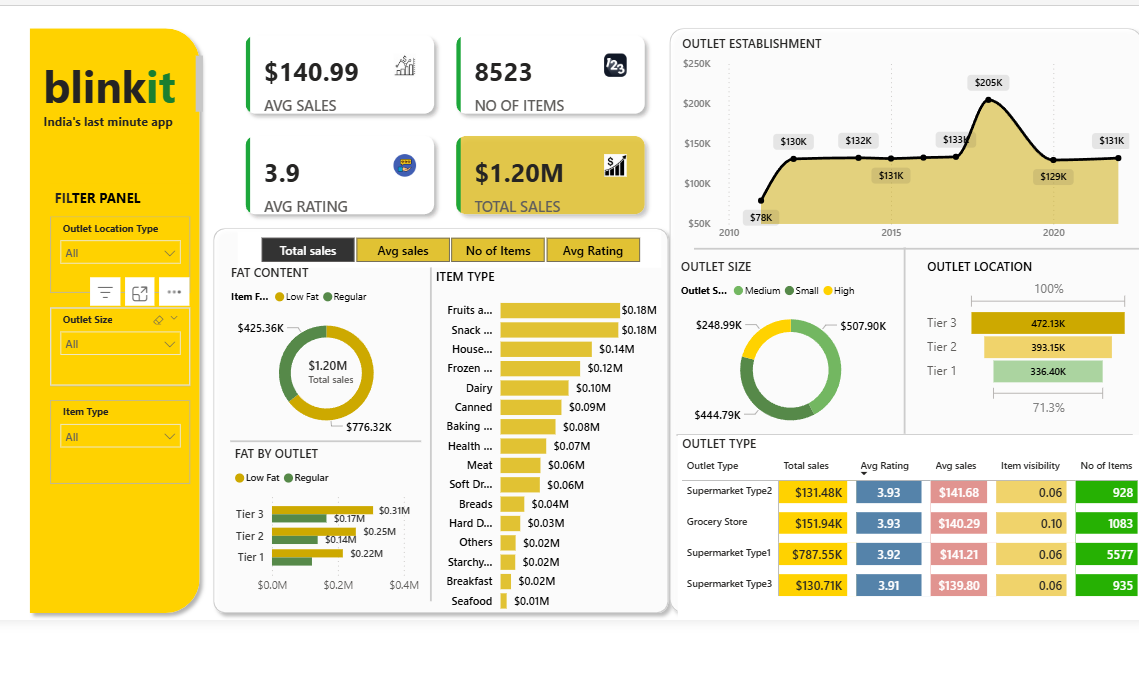

Layout of this report page (visuals, bound fields, positions):
{"tool":"powerbi","page":{"name":"Page 1","canvas":[1280,720],"ordinal":0},"visuals":[{"type":"shape","box":[41.2,60.4,204.5,660],"z":0},{"type":"textbox","box":[60.4,94.7,185.2,72.7],"z":1000},{"type":"textbox","box":[60.4,157.8,156.4,31.6],"z":2000},{"type":"cardVisual","fields":{"Data":["BlinkIT.Avg sales","BlinkIT.No of Items","BlinkIT.Avg Rating","BlinkIT.Total sales"]},"box":[270.3,60.4,473.4,231.9],"z":3000},{"type":"shape","box":[242.9,279.9,517.3,440.5],"z":4000},{"type":"slicer","fields":{"Values":["Metrics.Metrics"]},"box":[278.6,292.3,465.2,39.8],"z":5000},{"type":"donutChart","title":"FAT CONTENT","fields":{"Y":["BlinkIT.Total sales"],"Category":["BlinkIT.Item Fat Content"]},"box":[266.2,328,219.6,194.9],"z":6000},{"type":"cardVisual","fields":{"Data":["BlinkIT.Total sales"]},"box":[338.9,404.8,111.1,82.3],"z":7000},{"type":"clusteredBarChart","title":"FAT BY OUTLET","fields":{"Y":["BlinkIT.Total sales"],"Category":["BlinkIT.Outlet Location Type"],"Series":["BlinkIT.Item Fat Content"]},"box":[270.3,526.9,219.6,171.5],"z":7001},{"type":"shape","box":[270.3,487.1,209.9,71.4],"z":7002},{"type":"shape","box":[385.6,332.1,209.9,366.4],"z":7003},{"type":"barChart","title":"ITEM TYPE","fields":{"Y":["BlinkIT.Total sales"],"Category":["BlinkIT.Item Type"]},"box":[491.3,332.1,252.5,388.3],"z":7004},{"type":"shape","box":[743.7,60.4,536.5,660],"z":7005},{"type":"lineChart","title":"OUTLET ESTABLISHMENT","fields":{"Category":["BlinkIT.Outlet Establishment Year"],"Y":["BlinkIT.Total sales"]},"box":[761.6,76.8,500.9,234.6],"z":7006},{"type":"shape","box":[779.4,275.8,500.9,71.4],"z":7007},{"type":"donutChart","title":"OUTLET SIZE","fields":{"Y":["BlinkIT.Total sales"],"Category":["BlinkIT.Outlet Size"]},"box":[760.2,321.1,251.1,201.7],"z":7008},{"type":"shape","box":[905.7,310.1,209.9,204.5],"z":7009},{"type":"funnel","title":"OUTLET LOCATION ","fields":{"Category":["BlinkIT.Outlet Location Type"],"Y":["Sum(BlinkIT.Sales)"]},"box":[1030.5,321.1,231.9,179.8],"z":7010},{"type":"shape","box":[760.2,480.3,500.9,71.4],"z":7011},{"type":"pivotTable","title":"OUTLET TYPE","fields":{"Rows":["BlinkIT.Outlet Type"],"Values":["BlinkIT.Total sales","BlinkIT.Avg Rating","BlinkIT.Avg sales","Avg(BlinkIT.Item Visibility)","BlinkIT.No of Items"]},"box":[761.6,516,518.7,204.5],"z":7012},{"type":"slicer","fields":{"Values":["BlinkIT.Outlet Location Type"]},"box":[72.7,275.8,153.7,83.7],"z":7013},{"type":"slicer","fields":{"Values":["BlinkIT.Outlet Size"]},"box":[72.7,376,153.7,86.4],"z":7014},{"type":"slicer","fields":{"Values":["BlinkIT.Item Type"]},"box":[72.7,477.5,153.7,91.9],"z":7015},{"type":"textbox","box":[72.7,240.1,153.7,35.7],"z":7016}]}

Visuals, with their boxes on the page's 1280x720 design canvas (x1, y1, x2, y2). These are canvas units, not pixel positions in the 1139x675 screenshot, which may show the page scaled, cropped or inside an application window:
shape: 41:60:246:720
textbox: 60:95:246:167
textbox: 60:158:217:189
cardVisual - BlinkIT.Avg sales x BlinkIT.No of Items: 270:60:744:292
shape: 243:280:760:720
slicer - Metrics.Metrics: 279:292:744:332
"FAT CONTENT" donutChart: 266:328:486:523
cardVisual - BlinkIT.Total sales: 339:405:450:487
"FAT BY OUTLET" clusteredBarChart: 270:527:490:698
shape: 270:487:480:558
shape: 386:332:596:698
"ITEM TYPE" barChart: 491:332:744:720
shape: 744:60:1280:720
"OUTLET ESTABLISHMENT" lineChart: 762:77:1262:311
shape: 779:276:1280:347
"OUTLET SIZE" donutChart: 760:321:1011:523
shape: 906:310:1116:515
"OUTLET LOCATION " funnel: 1030:321:1262:501
shape: 760:480:1261:552
"OUTLET TYPE" pivotTable: 762:516:1280:720
slicer - BlinkIT.Outlet Location Type: 73:276:226:360
slicer - BlinkIT.Outlet Size: 73:376:226:462
slicer - BlinkIT.Item Type: 73:478:226:569
textbox: 73:240:226:276
